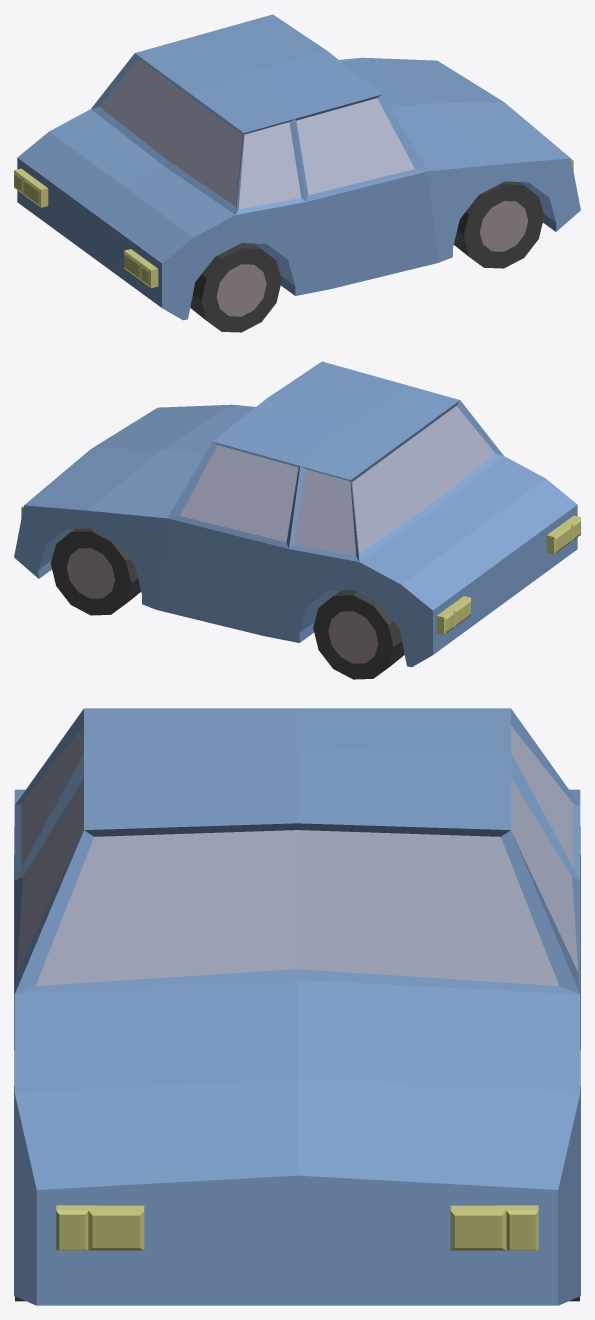
File: car_blue.fbx
3 views of the same model, one above another, from view 1: azimuth 30°, elevation 25°; view 2: azimuth 150°, elevation 25°; view 3: azimuth 270°, elevation 25° (orthographic). The views are drawn at different scales.
Parts seen in each view (by area): view 1: Cube; view 2: Cube; view 3: Cube.
Boxes of the visible parts, x1,y1,x2,y2 form: Cube: [14, 14, 580, 332]; Cube: [14, 361, 580, 679]; Cube: [14, 708, 580, 1305].
Bounding box in the file's own units: 572 × 240 × 332.
